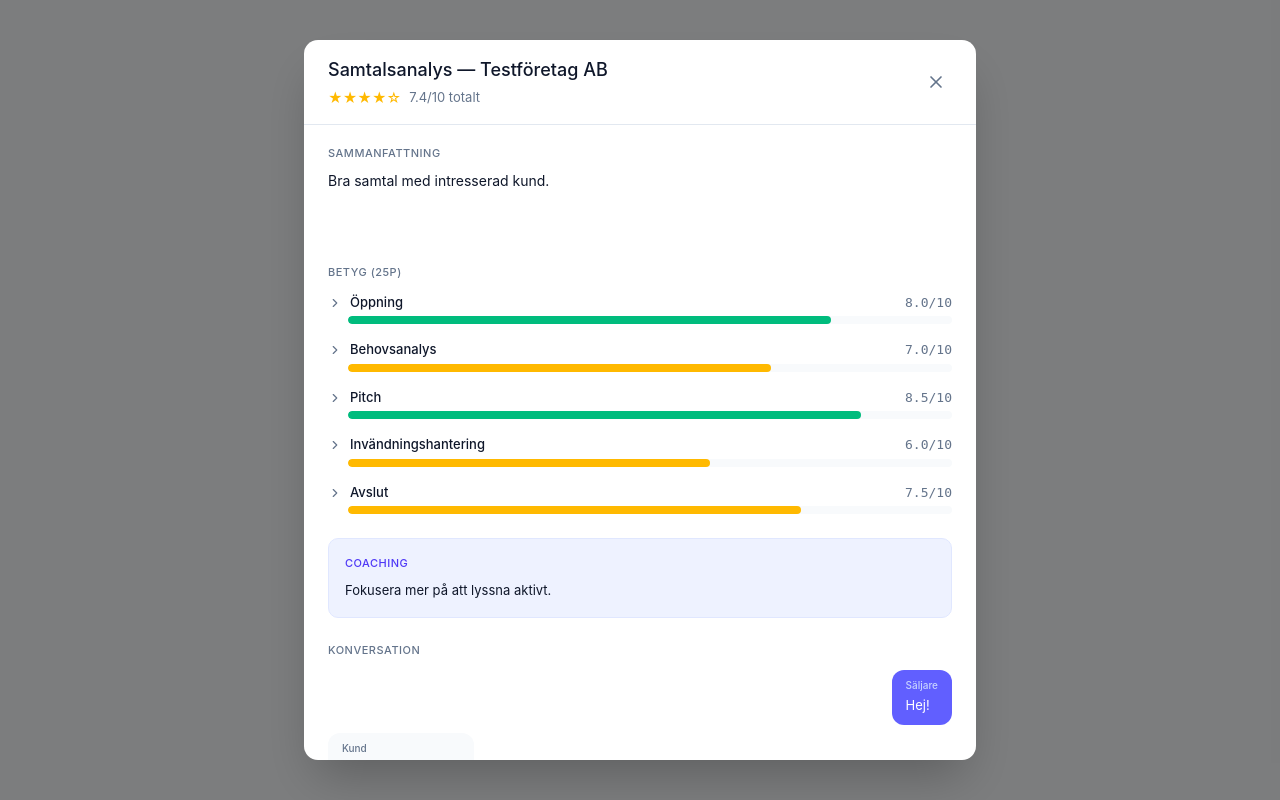
25-point scorecard › collapses category on second click
The image size is (1280, 800).
Click the button "Öppning 8.0/10": (377, 302) [328,293,952,312]
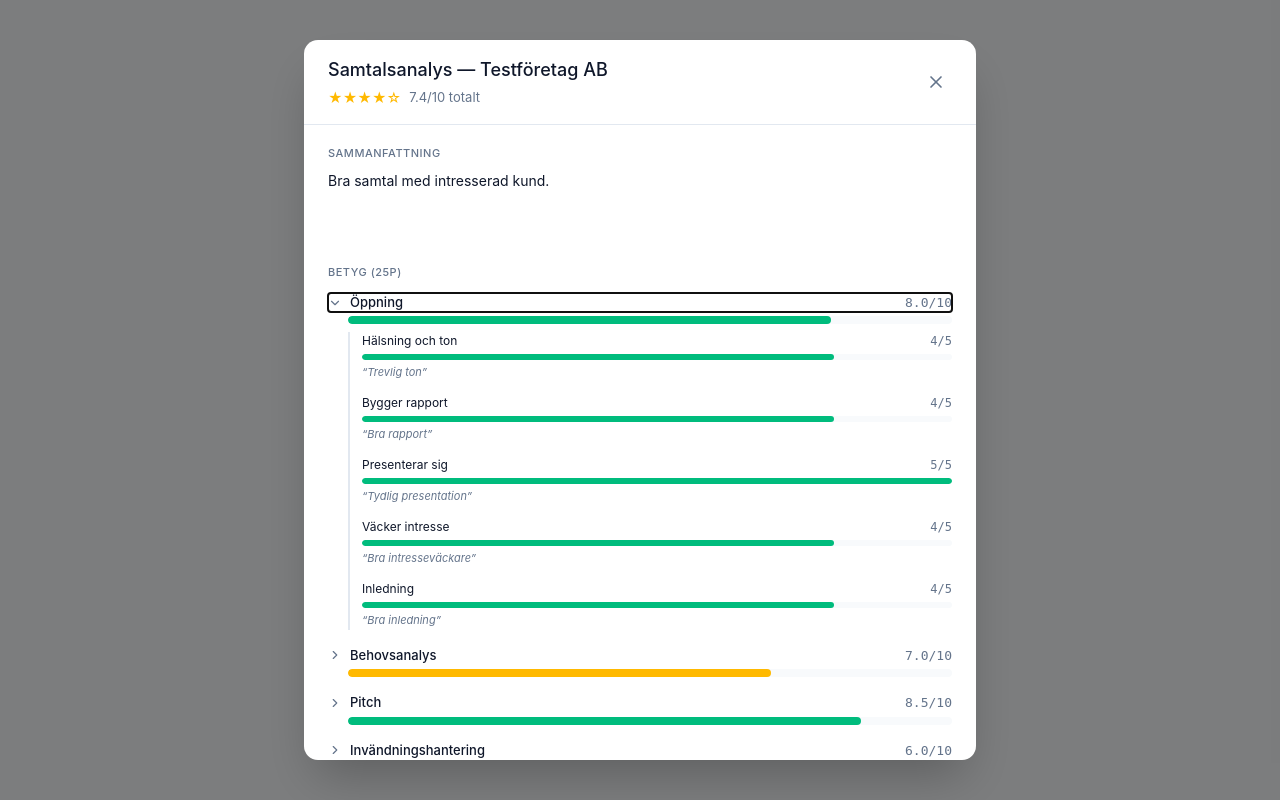
Result: the text "Hälsning och ton" is shown at [362,332,457,350]
Click the button "Öppning 8.0/10": (377, 302) [328,293,952,312]
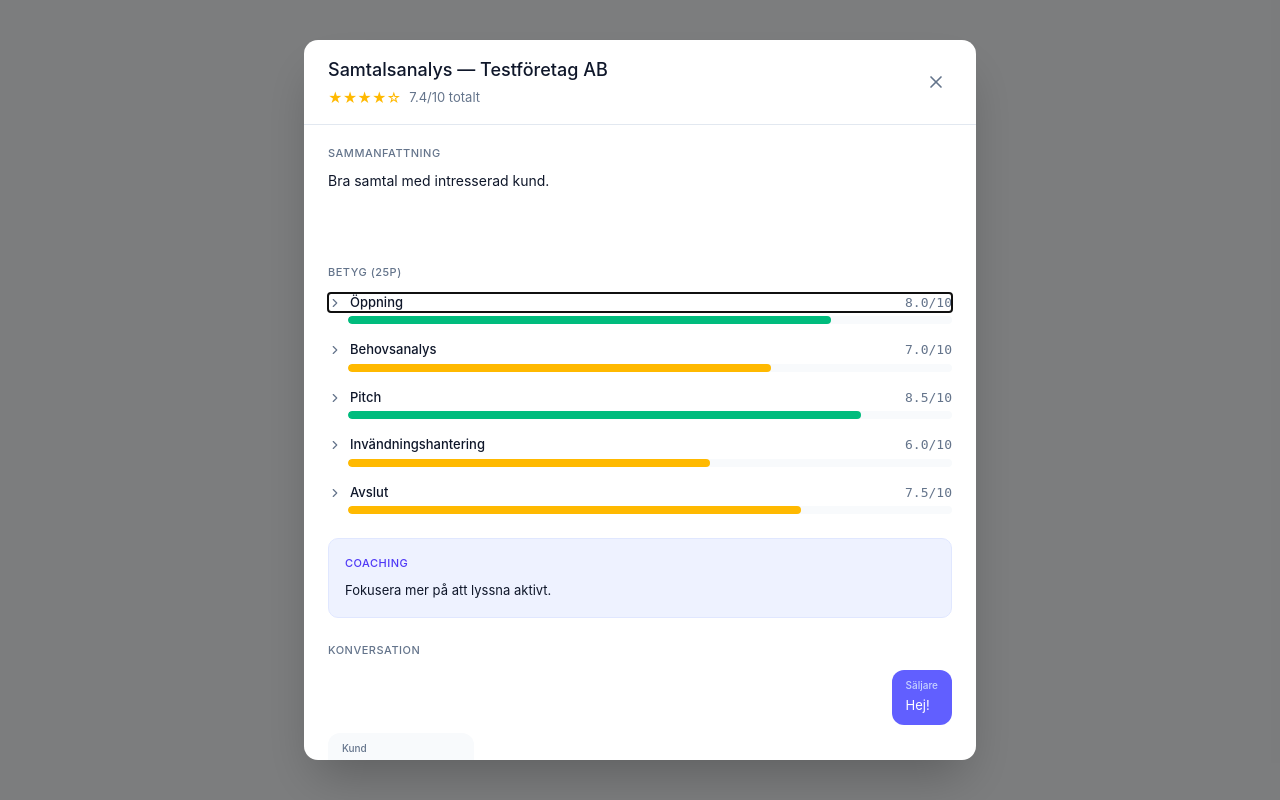
Result: the text "Hälsning och ton" is gone
